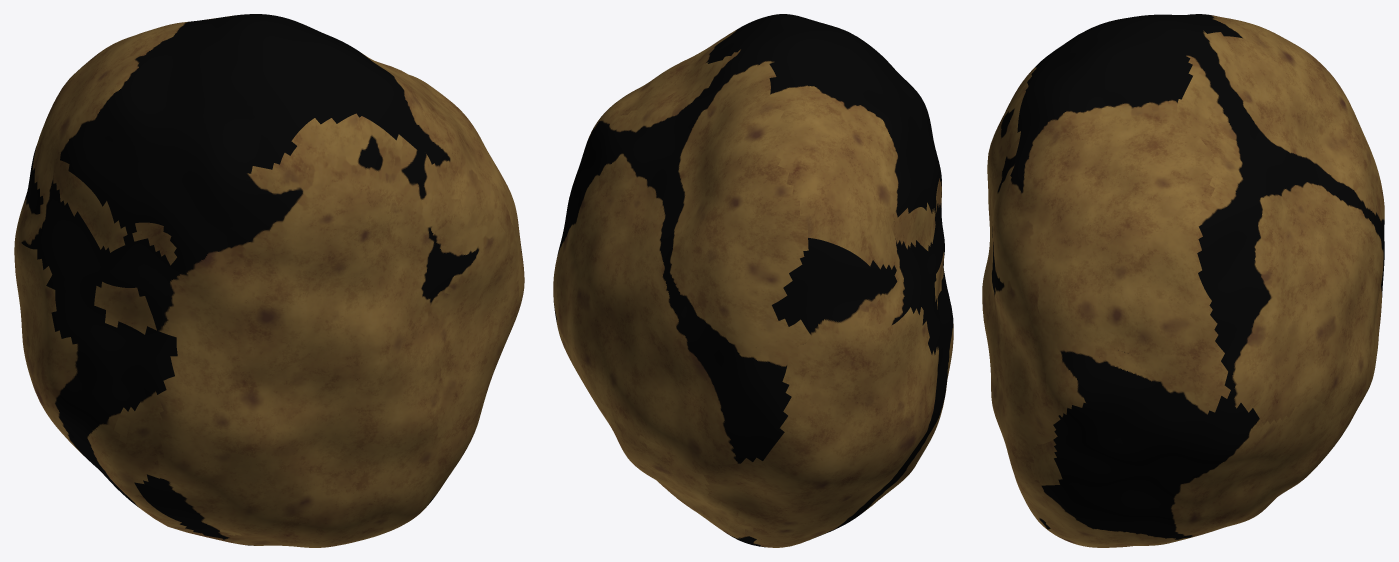
3 renders of one model, left to right at view 1: azimuth 30°, elevation 25°; view 2: azimuth 150°, elevation 25°; view 3: azimuth 270°, elevation 25°, orthographic. The views are drawn at different scales.
Visible parts, largest first — view 1: original_ico.017; view 2: original_ico.017; view 3: original_ico.017.
Boxes of the visible parts, x1=… form: original_ico.017: x1=14, y1=14, x2=524, y2=547; original_ico.017: x1=553, y1=14, x2=953, y2=547; original_ico.017: x1=982, y1=14, x2=1384, y2=547.
Bounding box in the file's own units: 2.9 × 3.52 × 2.59.
